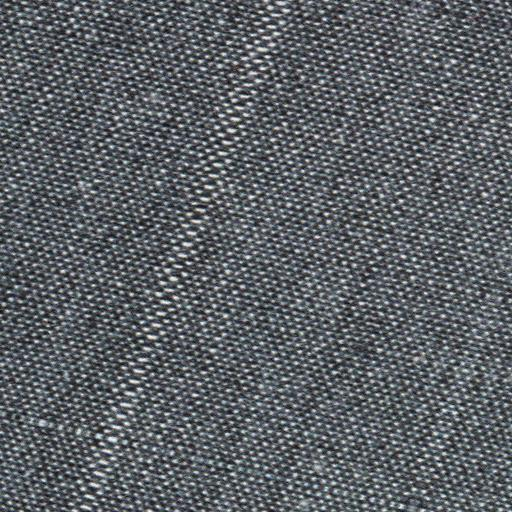slub: (76, 1, 307, 510)
